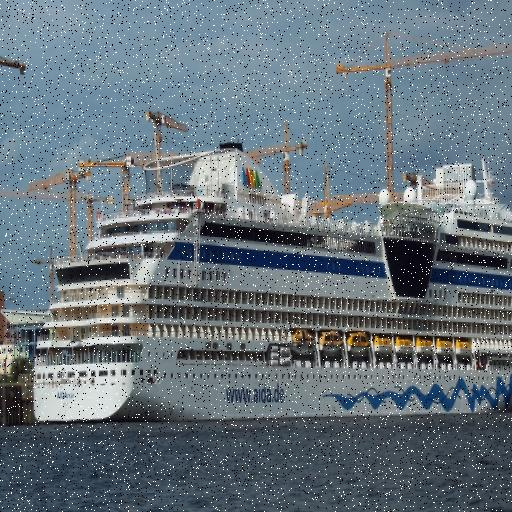cruises: (30, 141, 512, 429)
